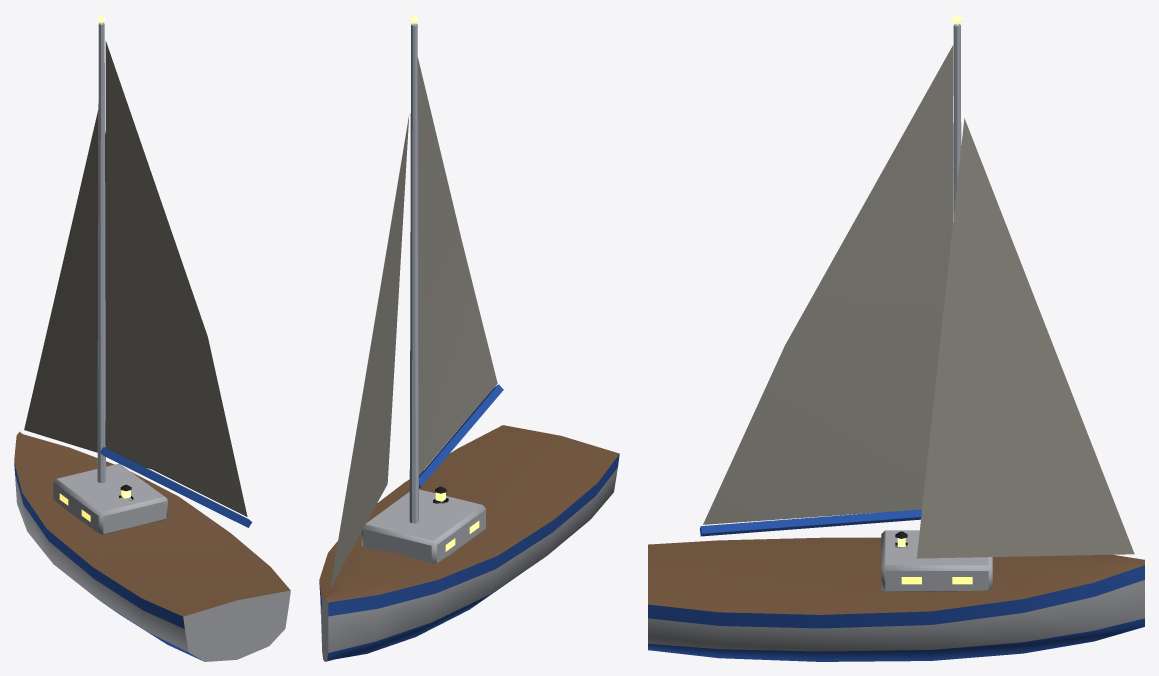
The model's file is sailboat.glb.
3 renders of one model, left to right at view 1: azimuth 30°, elevation 25°; view 2: azimuth 150°, elevation 25°; view 3: azimuth 270°, elevation 25°, orthographic. The views are drawn at different scales.
Parts seen in each view (by area): view 1: boat; view 2: boat; view 3: boat.
Part boxes in pixels (left/top/right/bottom): boat: left=14, top=22, right=290, bottom=661; boat: left=319, top=23, right=619, bottom=661; boat: left=648, top=24, right=1144, bottom=661.
Size of the model in its own units: 1.8 by 6.92 by 4.9.
